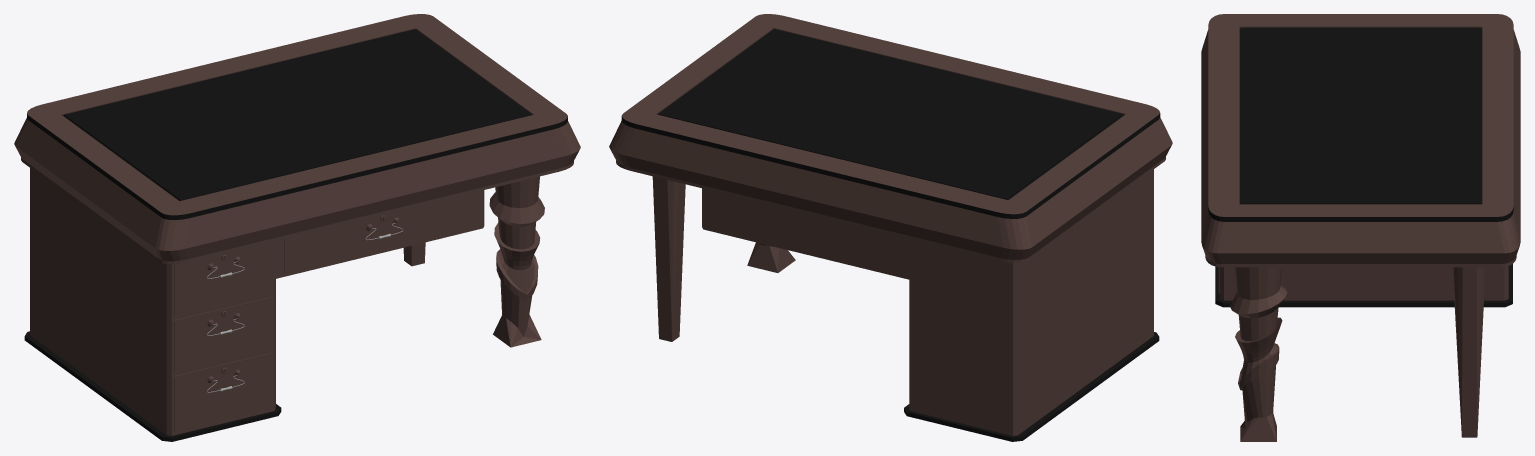
The model's file is mesa.fbx.
3 renders of one model, left to right at view 1: azimuth 30°, elevation 25°; view 2: azimuth 150°, elevation 25°; view 3: azimuth 270°, elevation 25°, orthographic. The views are drawn at different scales.
Parts seen in each view (by area): view 1: mesa, cajon; view 2: mesa; view 3: mesa.
Boxes of the visible parts, left/top/right/bottom form: mesa: left=14, top=14, right=580, bottom=441; cajon: left=174, top=241, right=273, bottom=317; mesa: left=609, top=14, right=1172, bottom=441; mesa: left=1201, top=14, right=1520, bottom=441.
Size of the model in its own units: 15000 by 7695 by 9525.
